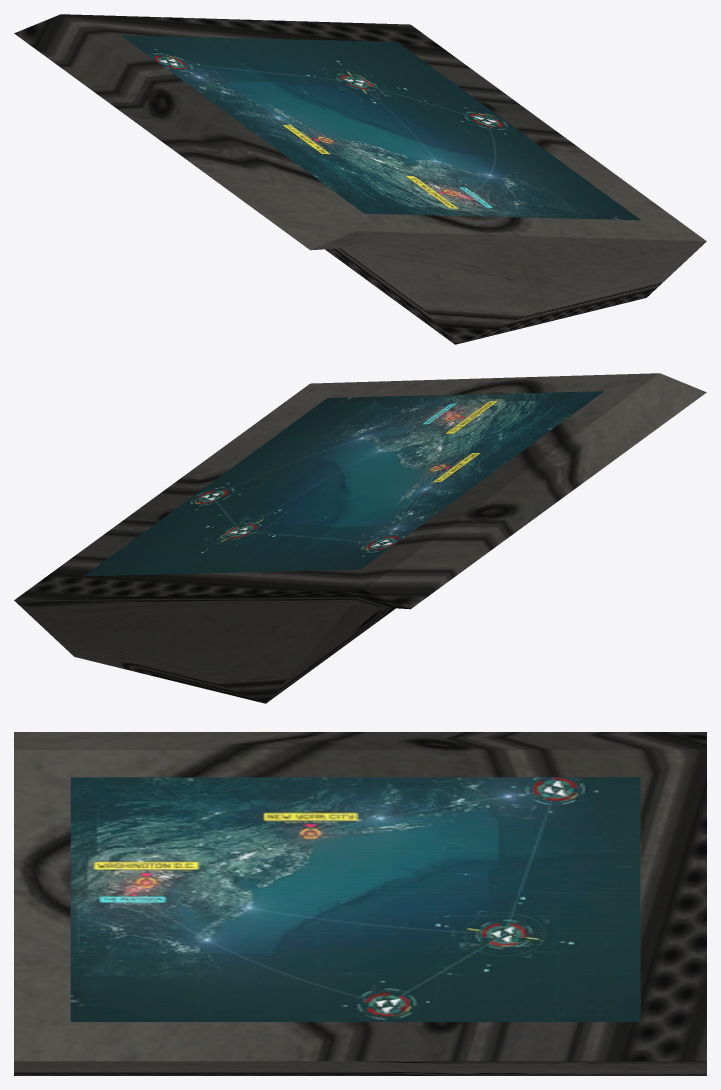
Rendered from p6_cic_touchscreen_radar_04_lod1.glb.
3 renders of one model, top to bottom at view 1: azimuth 30°, elevation 25°; view 2: azimuth 150°, elevation 25°; view 3: azimuth 270°, elevation 25°, orthographic. The views are drawn at different scales.
Parts seen in each view (by area): view 1: surf1, surf0; view 2: surf1, surf0; view 3: surf0, surf1.
Boxes of the visible parts, left/top/right/bottom form: surf1: left=14, top=14, right=706, bottom=344; surf0: left=121, top=35, right=640, bottom=220; surf1: left=14, top=373, right=706, bottom=703; surf0: left=84, top=391, right=603, bottom=576; surf0: left=70, top=777, right=640, bottom=1021; surf1: left=14, top=732, right=706, bottom=1075.
Bounding box in the file's own units: 26.56 × 8.8 × 34.35.
